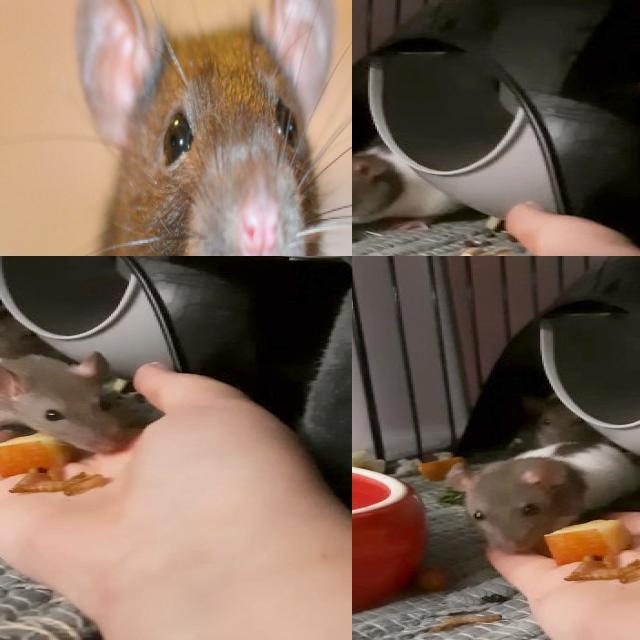rat: (68, 0, 346, 256), (446, 441, 640, 556), (0, 350, 125, 465), (352, 143, 479, 235)
